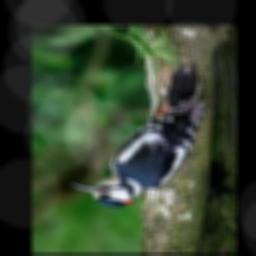Woodpecker: (70, 61, 206, 208)
